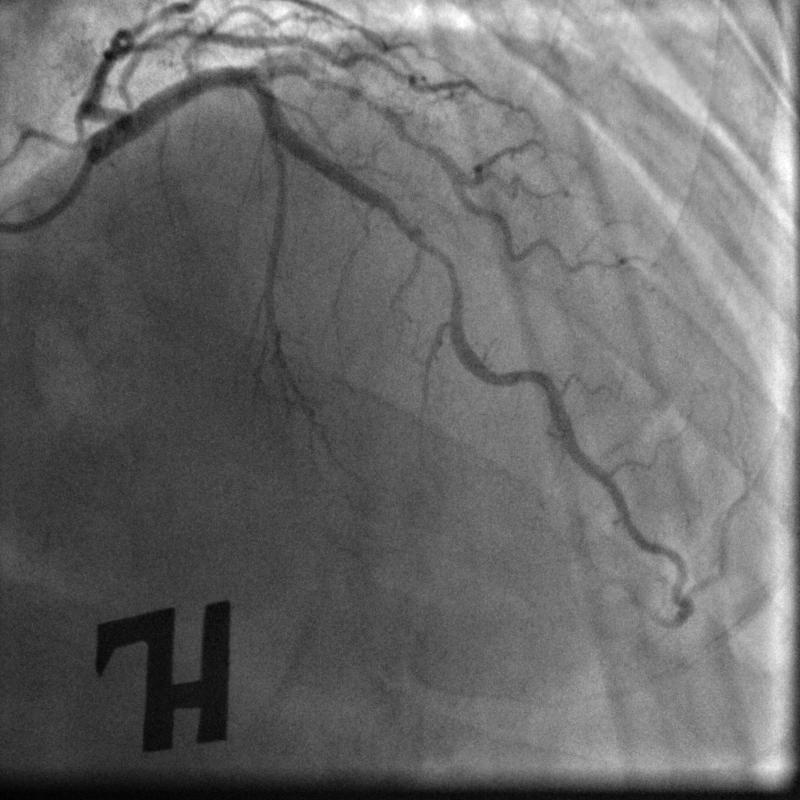Stenosis: (425, 242, 466, 311)
